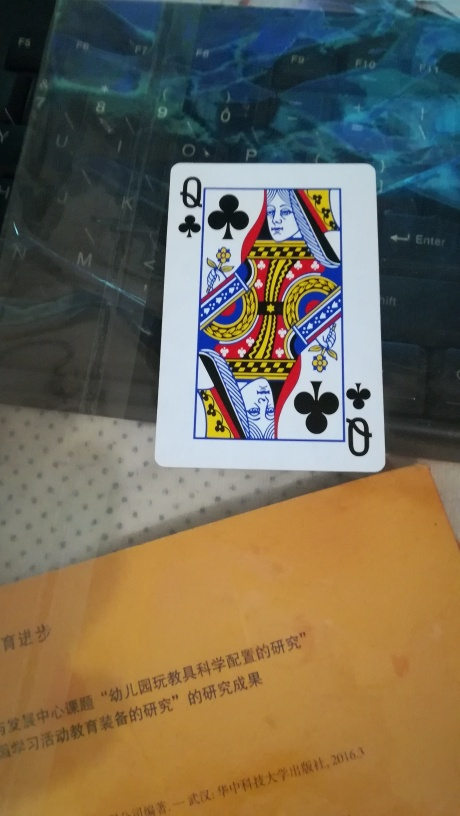mh q: (151, 164, 387, 475)
